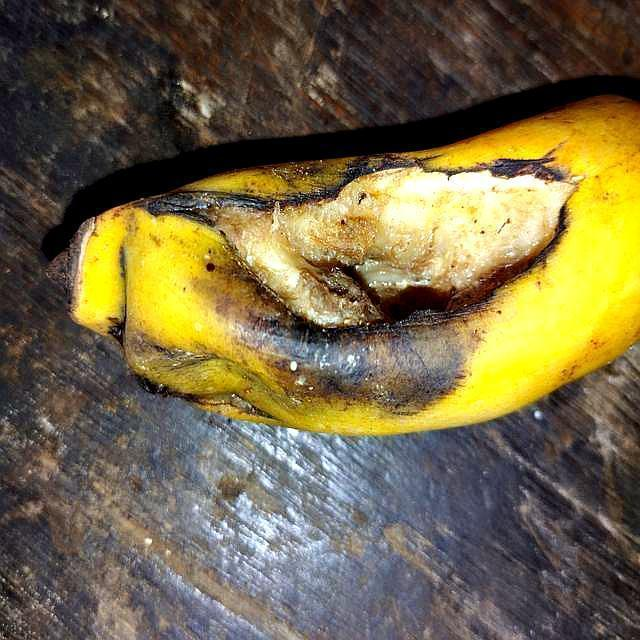Biodegradable: (65, 93, 640, 437)
